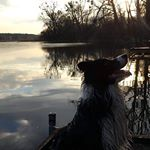puppy: (73, 51, 137, 150)
